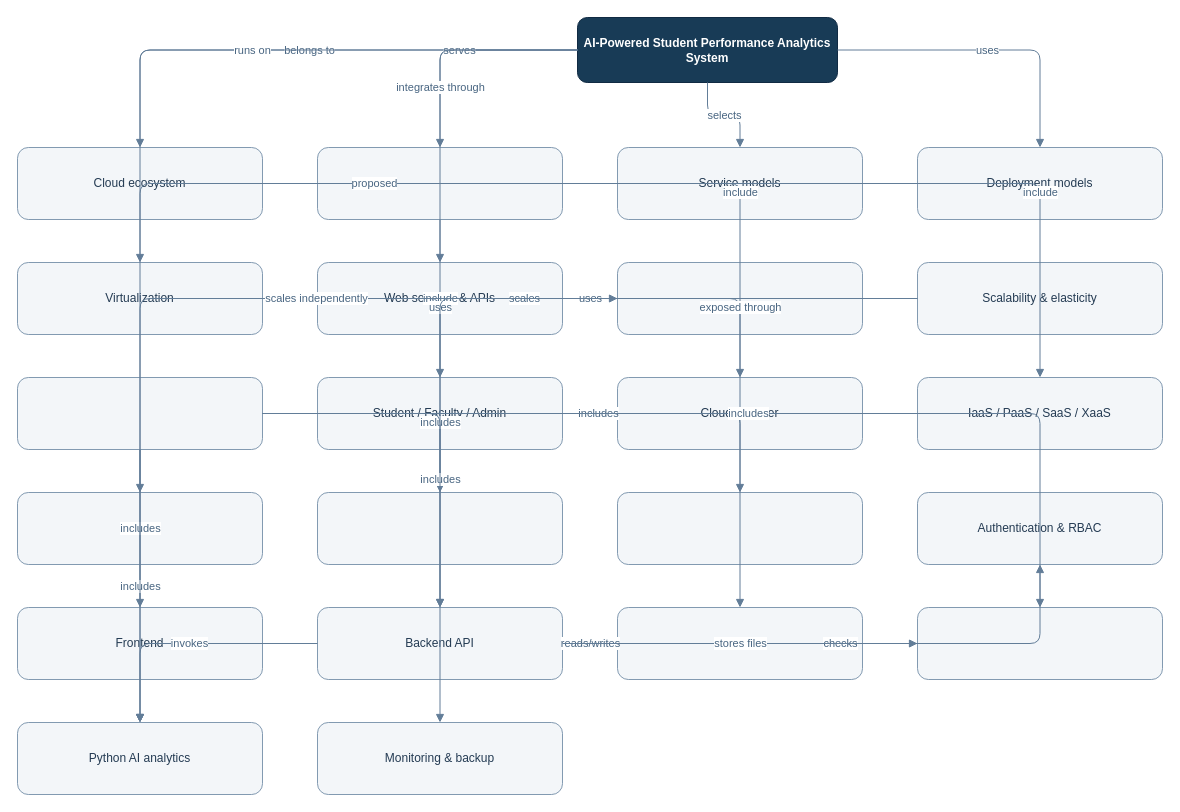
Image size: 1180x812. Some labels were removed from this diagram. Each missing label, with the box of its shape:
API gateway: (616, 492, 862, 564)
Cloud actors: (316, 146, 562, 220)
Managed database: (616, 606, 862, 680)
Object storage: (916, 606, 1162, 680)
Project modules: (16, 376, 262, 450)
Public cloud (proposed): (16, 492, 262, 564)
REST / HTTPS / JSON: (616, 262, 862, 334)
VM / container / hypervisor: (316, 492, 562, 564)
